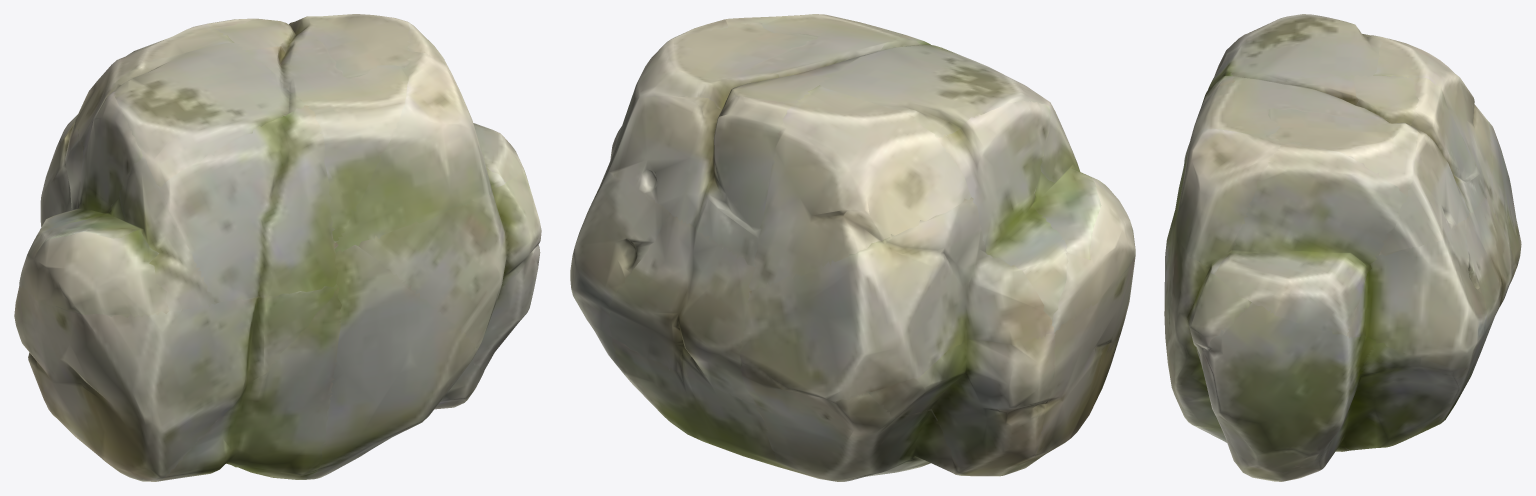
Rendered from limestone-boulder.glb.
3 renders of one model, left to right at view 1: azimuth 30°, elevation 25°; view 2: azimuth 150°, elevation 25°; view 3: azimuth 270°, elevation 25°, orthographic. The views are drawn at different scales.
Bounding box in the file's own units: 1.9 × 1.53 × 1.35.
Materials: 1 (1 with a texture image).
